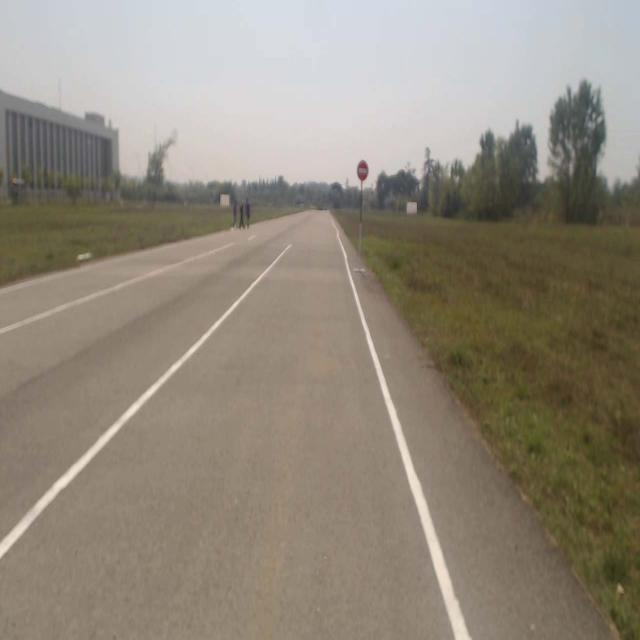girisyok: (358, 160, 368, 180)
